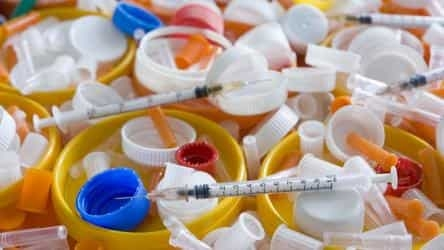plastic: (19, 67, 300, 151), (107, 156, 417, 226), (72, 159, 158, 236), (220, 60, 304, 130), (324, 102, 390, 167), (300, 38, 374, 78), (104, 2, 171, 46)
